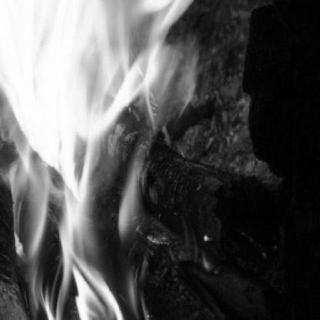Fire: (2, 2, 244, 308)
